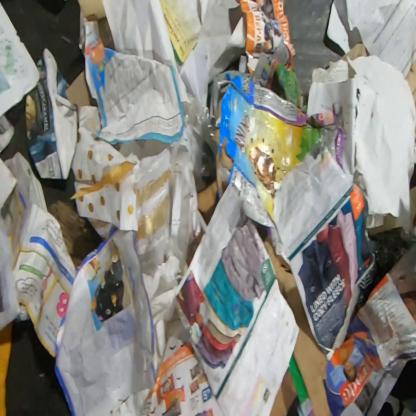cardboard: (196, 70, 344, 266), (263, 235, 332, 416), (24, 46, 78, 180), (47, 198, 106, 272), (65, 69, 99, 122), (268, 366, 299, 415)
rigid_plastic: (181, 89, 215, 154)
